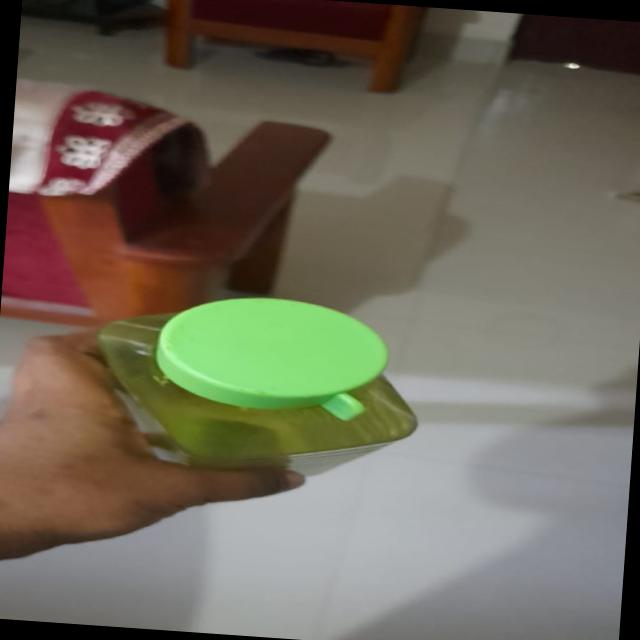Plastic - Recyclable: (83, 282, 428, 486)
